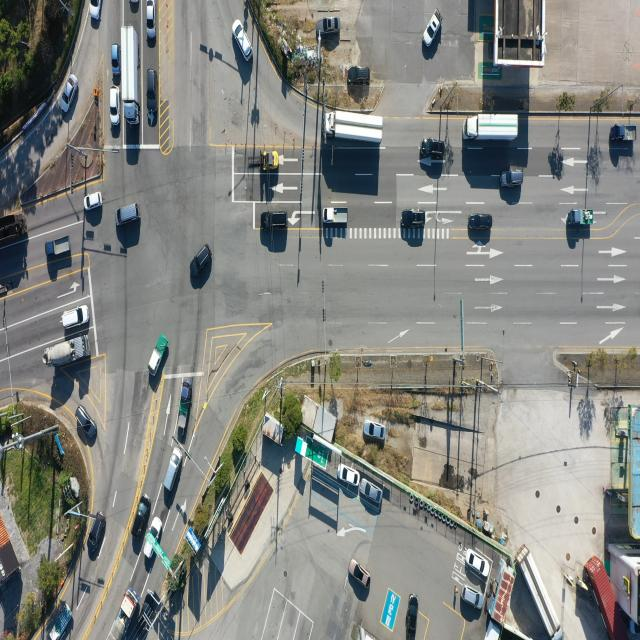car: (164, 446, 182, 494), (144, 516, 163, 560), (75, 405, 97, 442), (134, 494, 152, 538), (189, 245, 211, 279), (89, 510, 105, 556), (60, 73, 78, 112), (61, 305, 89, 330), (235, 19, 252, 60), (467, 550, 490, 579), (262, 210, 290, 232), (351, 559, 371, 588), (423, 14, 440, 48), (462, 585, 484, 610), (117, 203, 140, 226), (408, 596, 420, 640), (361, 480, 383, 503), (338, 464, 361, 485), (420, 138, 444, 158), (403, 209, 428, 228), (363, 420, 385, 441), (469, 213, 494, 231), (316, 18, 340, 36), (146, 70, 156, 112), (500, 170, 523, 188), (109, 87, 119, 126), (85, 190, 103, 210), (350, 66, 370, 84), (146, 0, 155, 38), (90, 0, 104, 21), (112, 43, 120, 74)
medium_truck: (520, 545, 564, 637), (44, 334, 90, 371), (325, 116, 384, 144), (125, 27, 142, 124), (466, 115, 521, 143), (111, 588, 140, 640)
small_truck: (180, 380, 194, 444), (150, 334, 169, 376), (48, 608, 72, 640), (45, 236, 72, 259), (566, 208, 593, 228), (612, 125, 638, 144), (323, 208, 348, 225)
